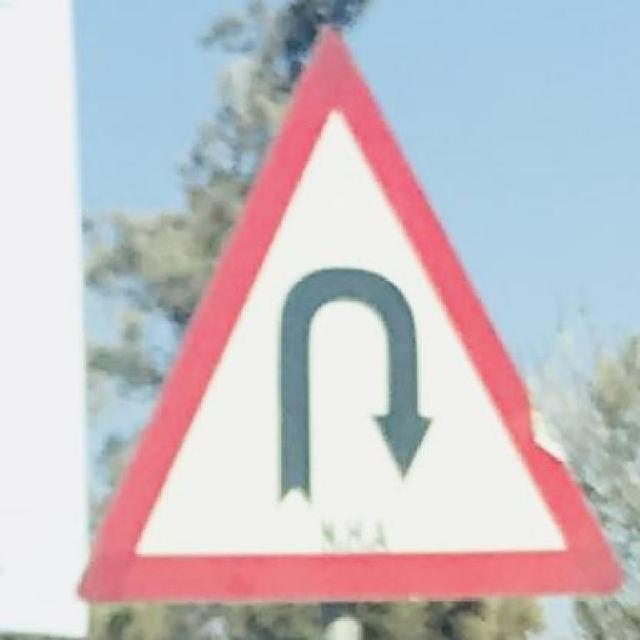u turn: (81, 37, 607, 605)
